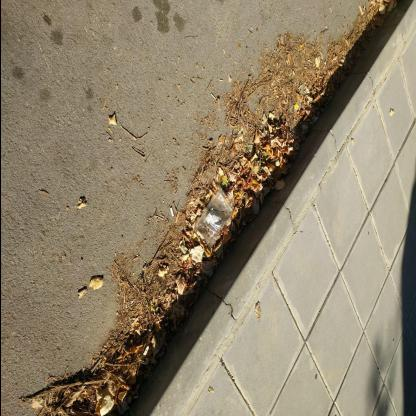plastik: (194, 188, 234, 246)
